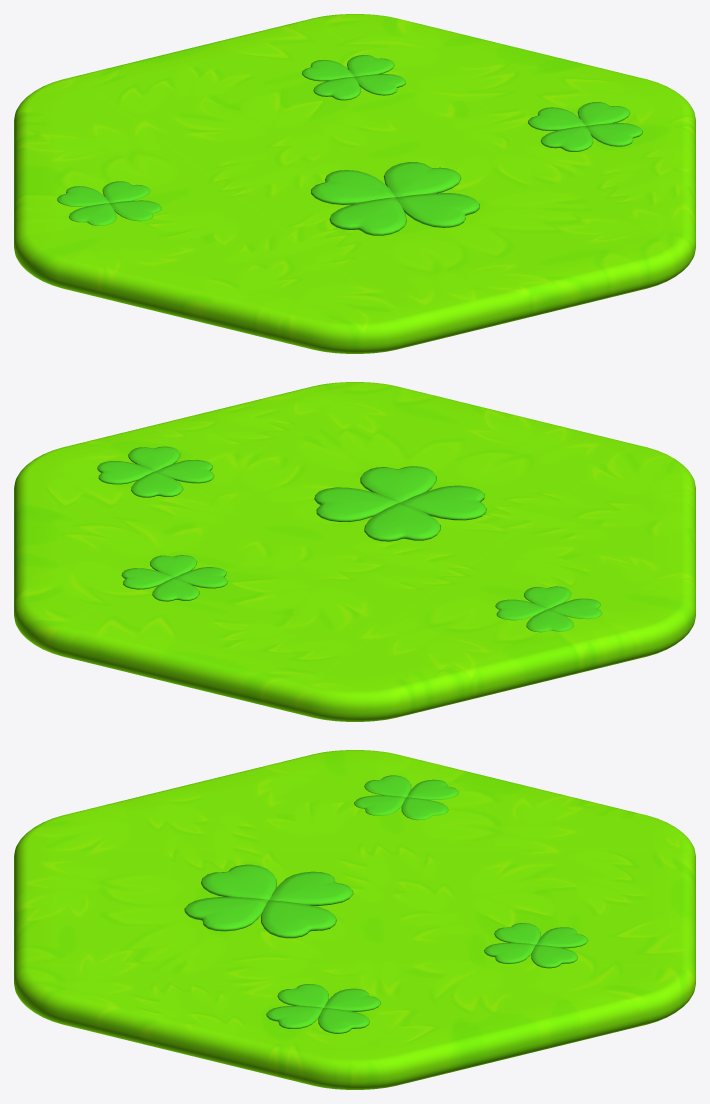
Rendered from Leaves new broken1.fbx.
3 renders of one model, top to bottom at view 1: azimuth 30°, elevation 25°; view 2: azimuth 150°, elevation 25°; view 3: azimuth 270°, elevation 25°, orthographic.
Visible parts, largest first — view 1: NurbsPath.046, NurbsPath.052, NurbsPath.044, NurbsPath.047, Circle.215, NurbsPath.041, NurbsPath.048, NurbsPath.049, NurbsPath.042, NurbsPath.053, NurbsPath.045, NurbsPath.043 (+1 smaller); view 2: NurbsPath.052, NurbsPath.041, NurbsPath.044, Circle.215, NurbsPath.046, NurbsPath.042, NurbsPath.047, NurbsPath.048, NurbsPath.053, NurbsPath.049, NurbsPath.043, NurbsPath.045 (+1 smaller); view 3: NurbsPath.044, NurbsPath.046, Circle.215, NurbsPath.041, NurbsPath.052, NurbsPath.047, NurbsPath.042, NurbsPath.048, NurbsPath.053, NurbsPath.049, NurbsPath.043, NurbsPath.045 (+1 smaller).
Boxes of the visible parts, <box> form: NurbsPath.046: <box>469,160,695,318</box>; NurbsPath.052: <box>14,112,251,302</box>; NurbsPath.044: <box>441,48,695,202</box>; NurbsPath.047: <box>270,212,502,353</box>; Circle.215: <box>57,55,642,235</box>; NurbsPath.041: <box>19,22,297,135</box>; NurbsPath.048: <box>280,144,523,324</box>; NurbsPath.049: <box>118,201,279,339</box>; NurbsPath.042: <box>287,14,440,144</box>; NurbsPath.053: <box>14,101,286,200</box>; NurbsPath.045: <box>350,92,468,160</box>; NurbsPath.043: <box>412,22,518,92</box>; NurbsPath.052: <box>399,559,695,716</box>; NurbsPath.041: <box>70,578,382,721</box>; NurbsPath.044: <box>14,406,279,548</box>; Circle.215: <box>97,446,602,632</box>; NurbsPath.046: <box>231,382,518,499</box>; NurbsPath.042: <box>14,544,320,660</box>; NurbsPath.047: <box>480,422,695,542</box>; NurbsPath.048: <box>280,416,545,556</box>; NurbsPath.053: <box>321,556,471,720</box>; NurbsPath.049: <box>472,498,695,580</box>; NurbsPath.043: <box>14,538,154,604</box>; NurbsPath.045: <box>155,500,306,551</box>; NurbsPath.044: <box>140,951,525,1089</box>; NurbsPath.046: <box>14,906,314,1044</box>; Circle.215: <box>184,775,588,1033</box>; NurbsPath.041: <box>457,819,695,971</box>; NurbsPath.052: <box>255,750,638,851</box>; NurbsPath.047: <box>14,804,303,905</box>; NurbsPath.042: <box>408,897,695,1027</box>; NurbsPath.048: <box>14,856,407,951</box>; NurbsPath.053: <box>342,813,659,896</box>; NurbsPath.049: <box>107,768,340,856</box>; NurbsPath.043: <box>469,975,641,1054</box>; NurbsPath.045: <box>316,916,468,974</box>.
Bounding box in the file's own units: 36.04 × 1.86 × 32.47.
